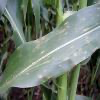Corn Gray leaf spot: (0, 2, 100, 97)
